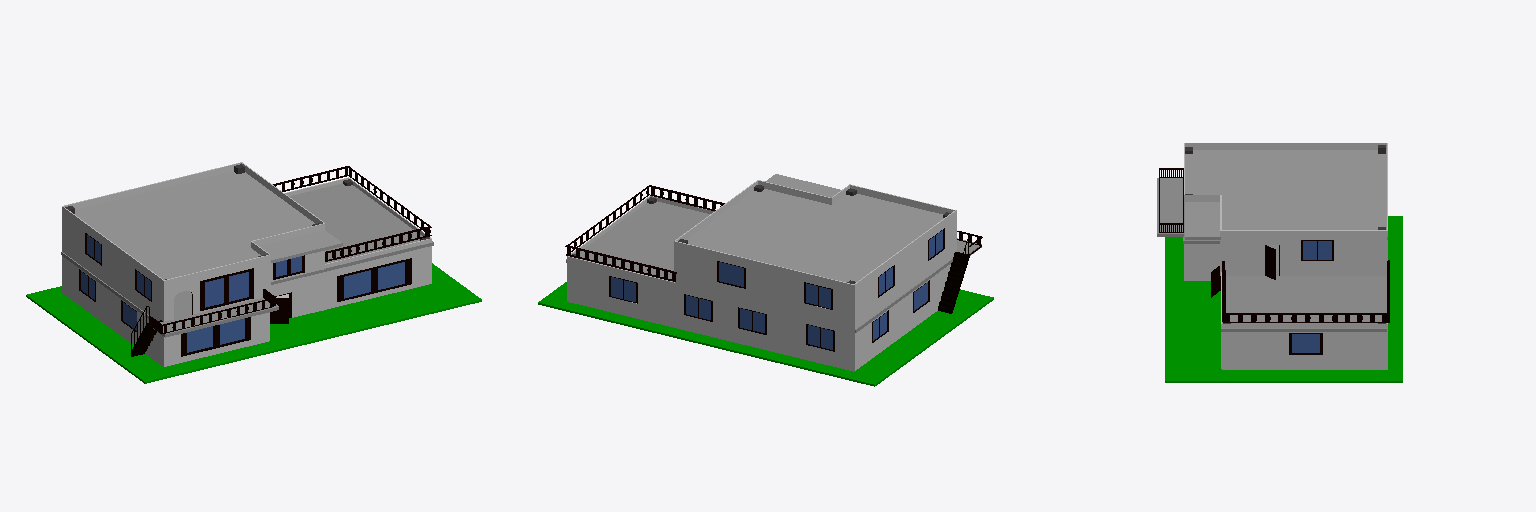
The model's file is Designer_Home_3D.obj.
3 views of the same model, side by side, from view 1: azimuth 30°, elevation 25°; view 2: azimuth 150°, elevation 25°; view 3: azimuth 270°, elevation 25° (orthographic).
Bounding box in the file's own units: 25.94 × 6.56 × 16.4.